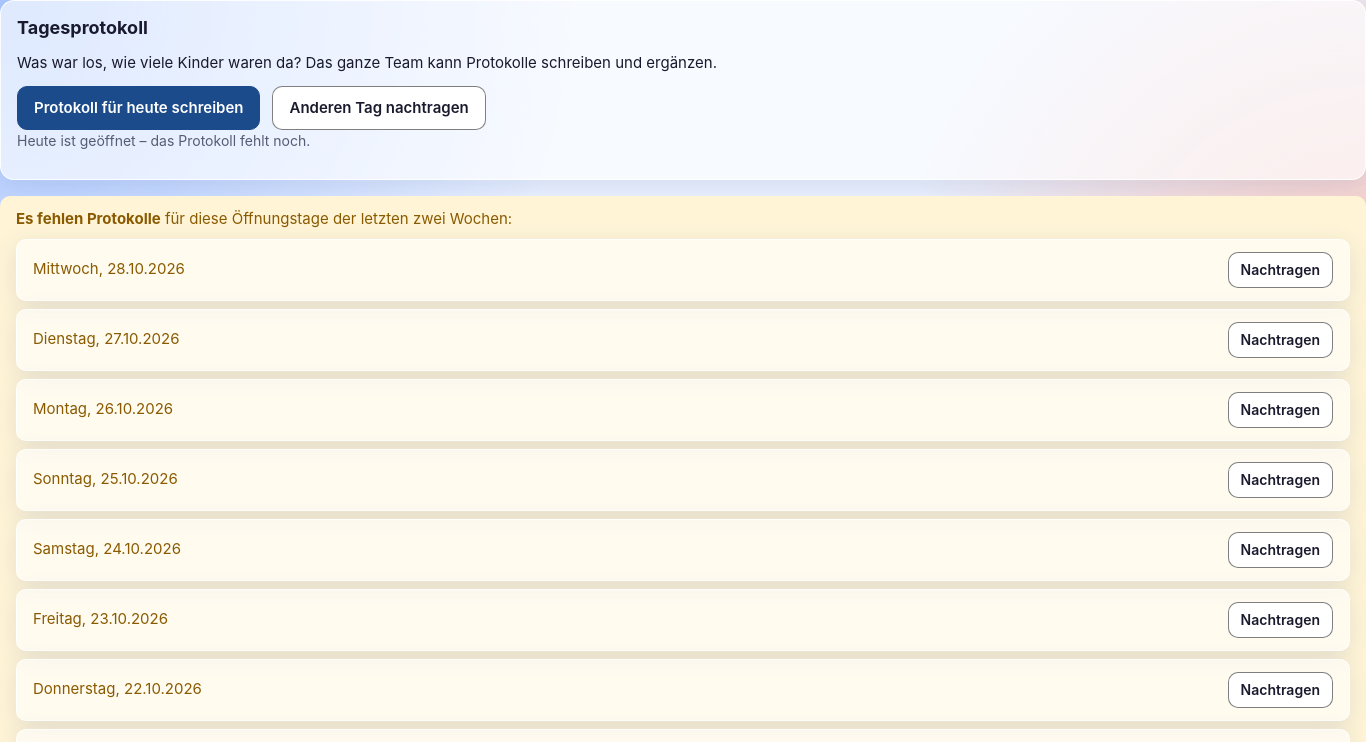
it: Tagesprotokoll: schreiben › Schließen mit Escape und Abbrechen speichert nichts
The image size is (1366, 742).
Click the button "Protokoll für heute schreiben".
click(139, 108)  # box [17,86,260,130]
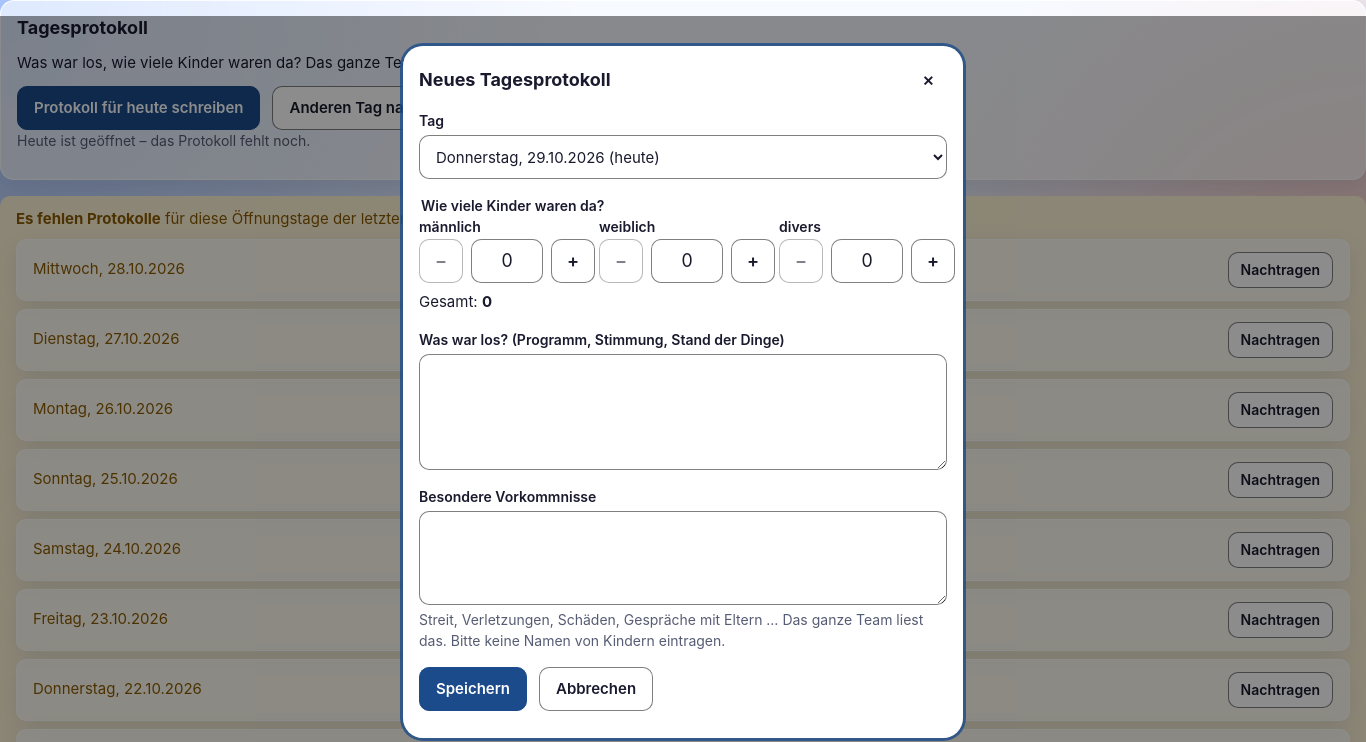
Result: the dialog is shown at [403,46,963,738]
Press Escape
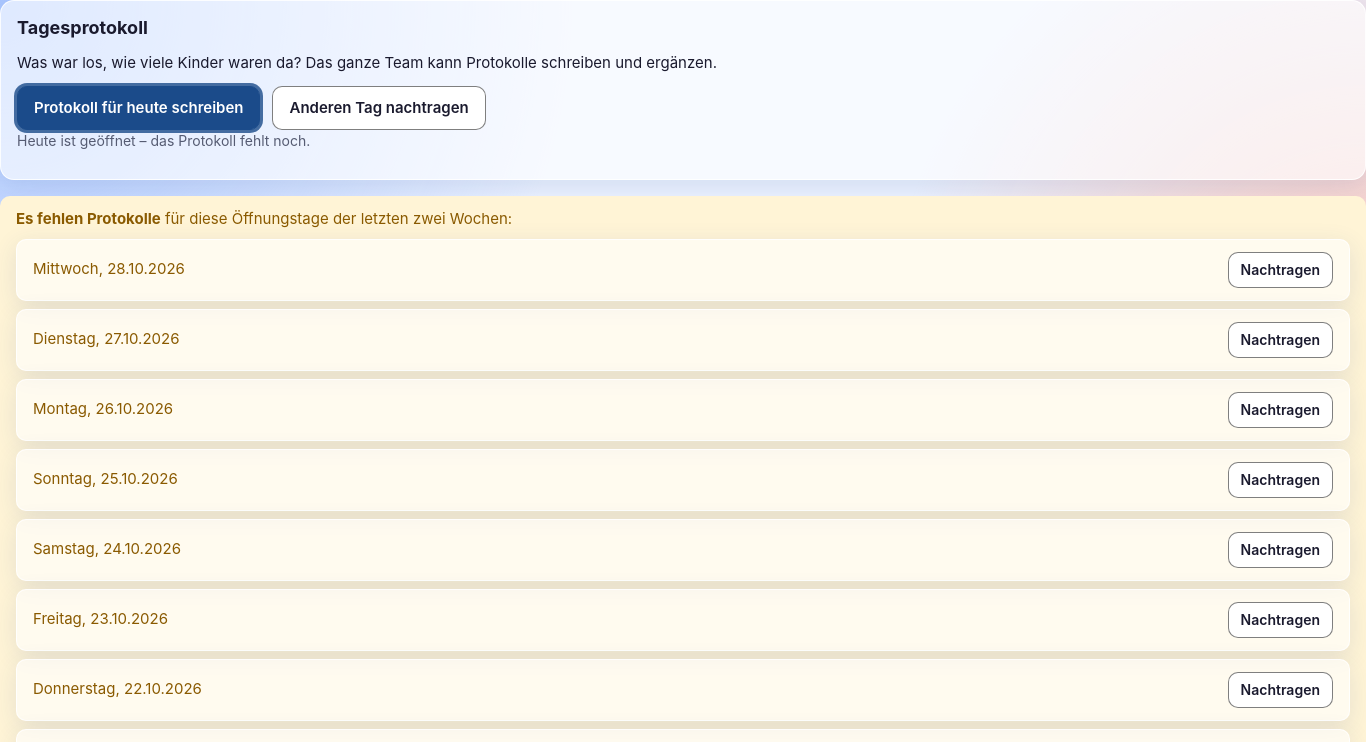
Result: the dialog is gone
